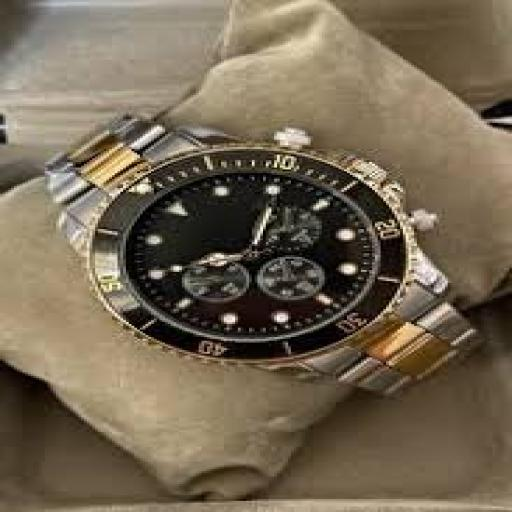KolSaati: (29, 98, 494, 424)
